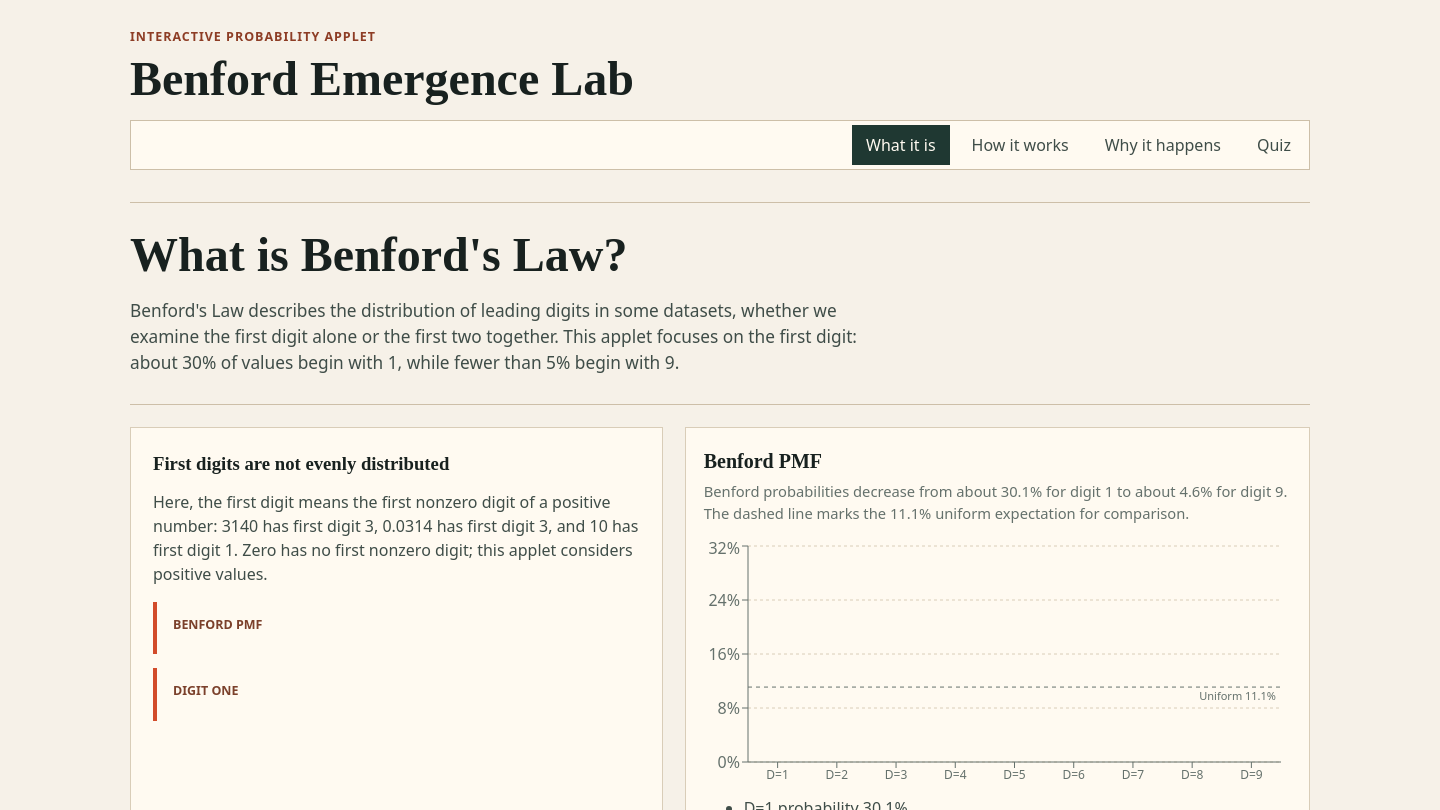
Test: App › switches among the definition, explainer, why it happens, and quiz
Click the tab "How it works".
click(1020, 145)  # box [958,125,1083,165]
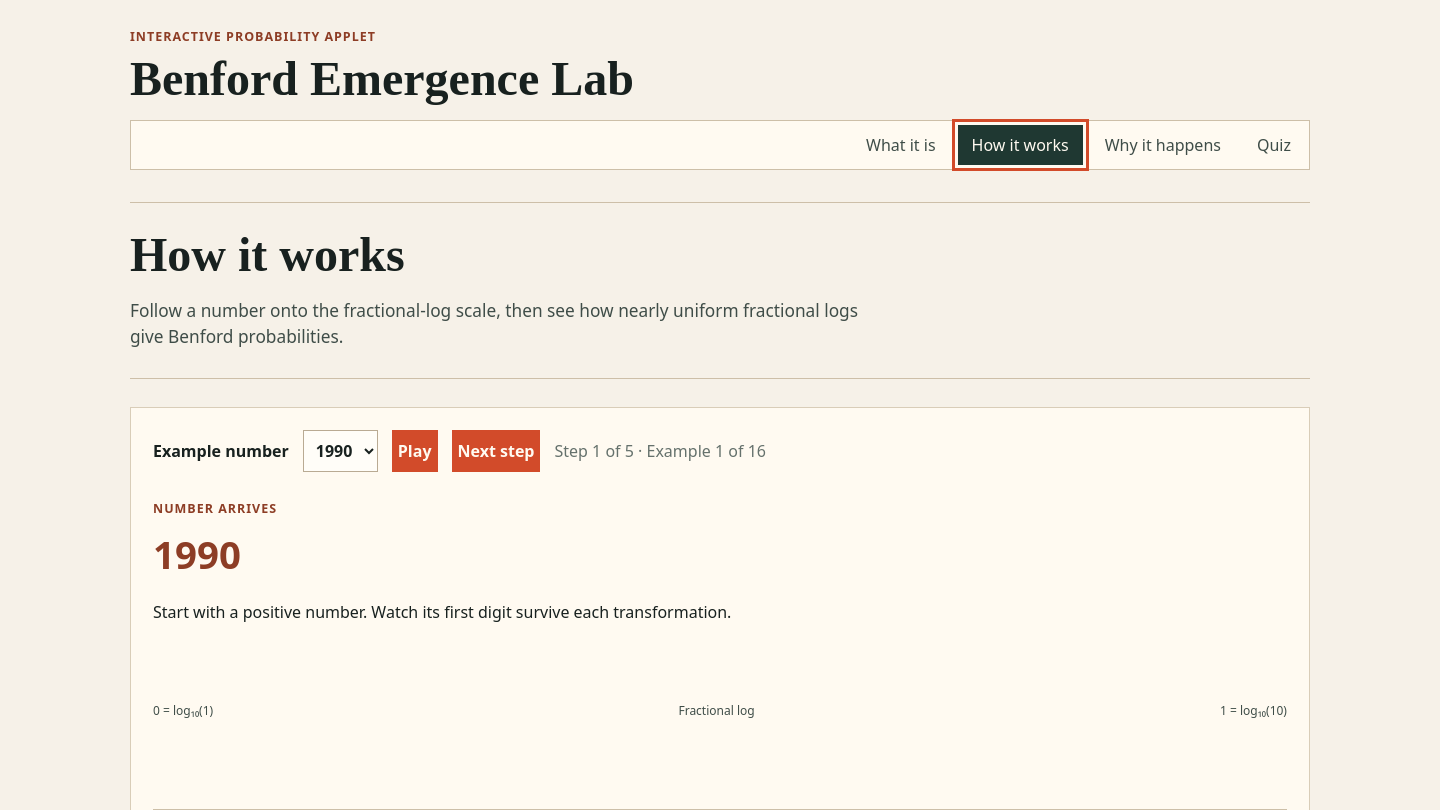
Result: the heading "How it works" is shown at [130,228,405,281]
Click the tab "Why it happens".
click(1163, 145)  # box [1091,125,1235,165]
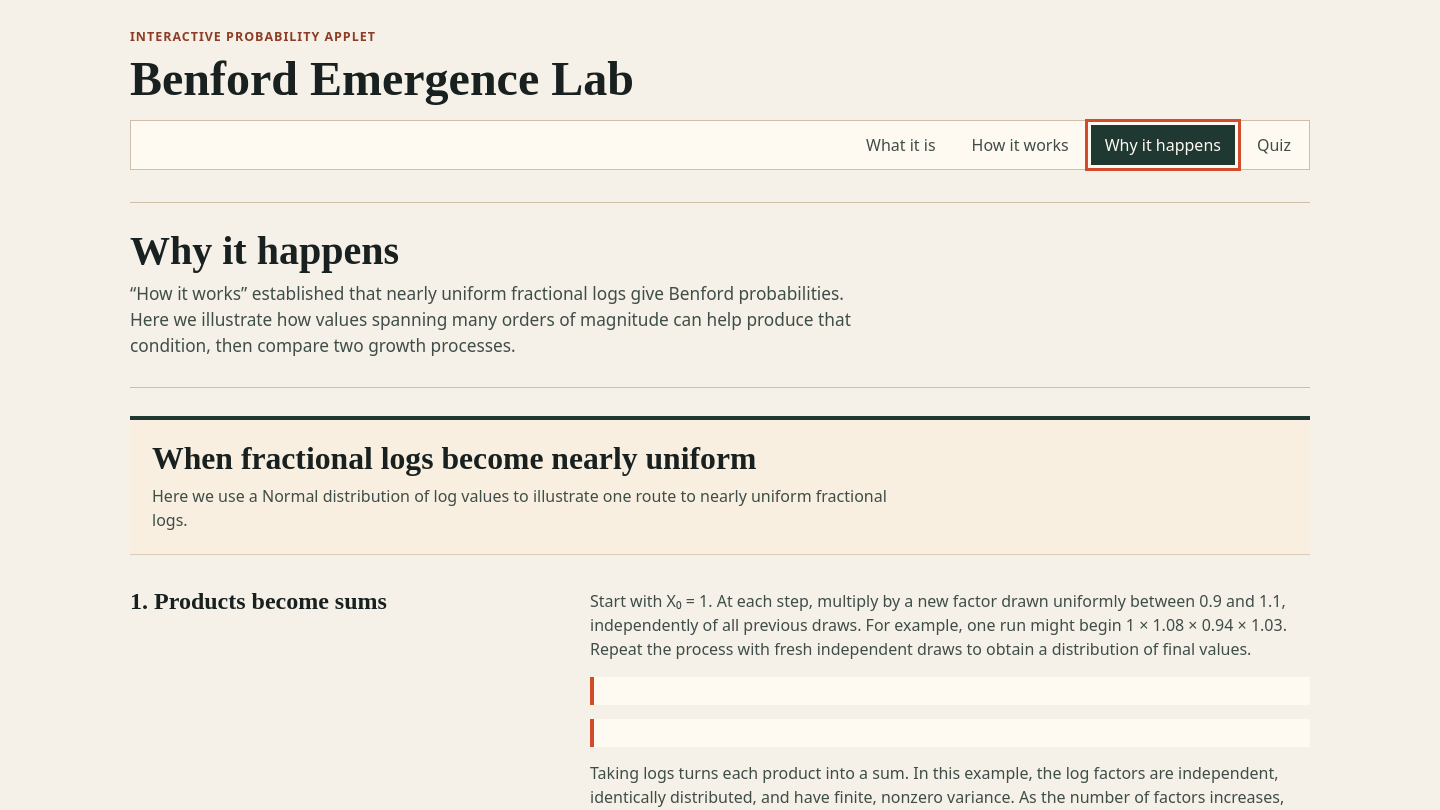
Result: the heading "Why it happens" is shown at [130,228,399,273]
Result: the heading "When fractional logs become nearly uniform" is shown at [152,440,756,476]
Click the tab "Quiz".
click(1274, 145)  # box [1243,125,1305,165]
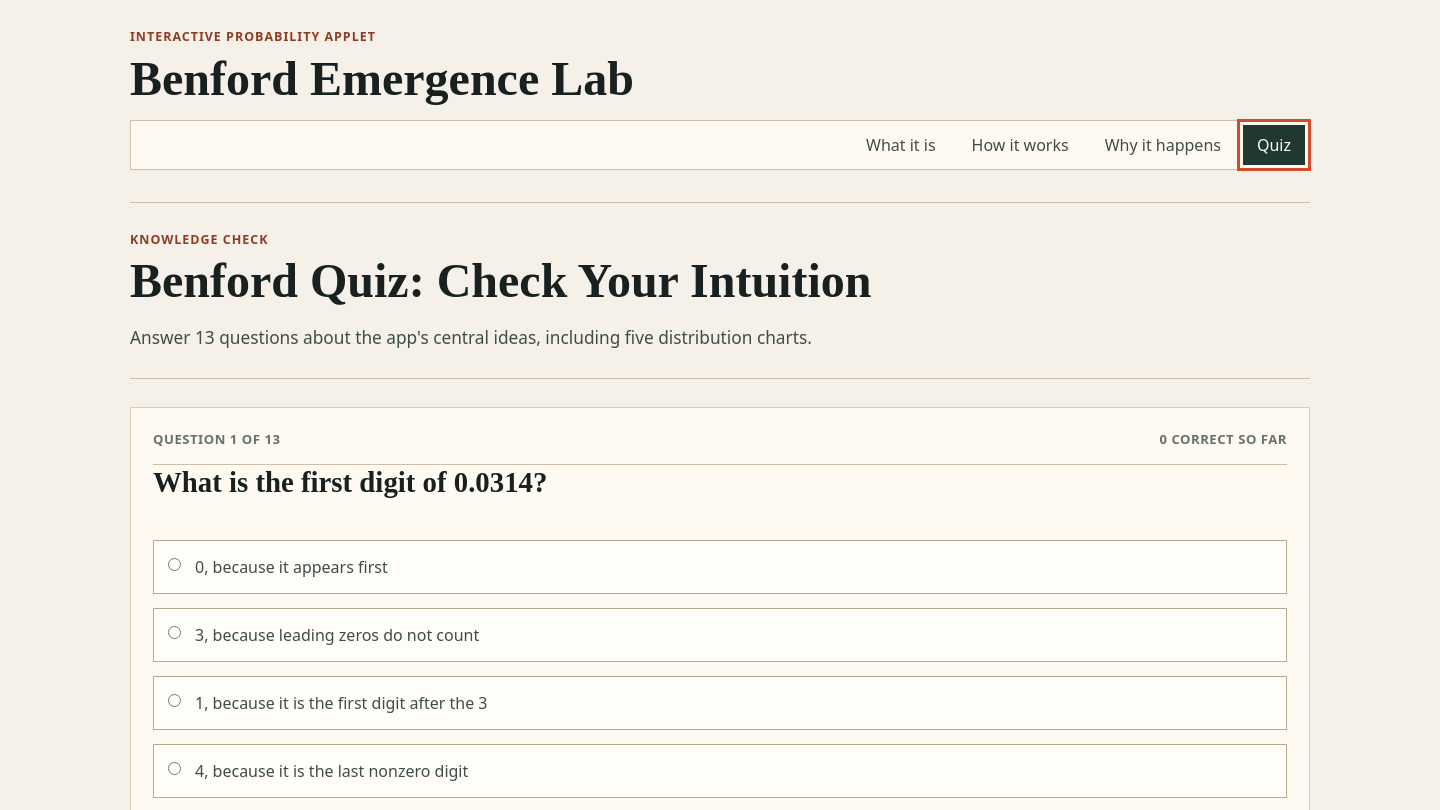
Result: the heading "Benford Quiz: Check Your Intuition" is shown at [130,258,980,304]
